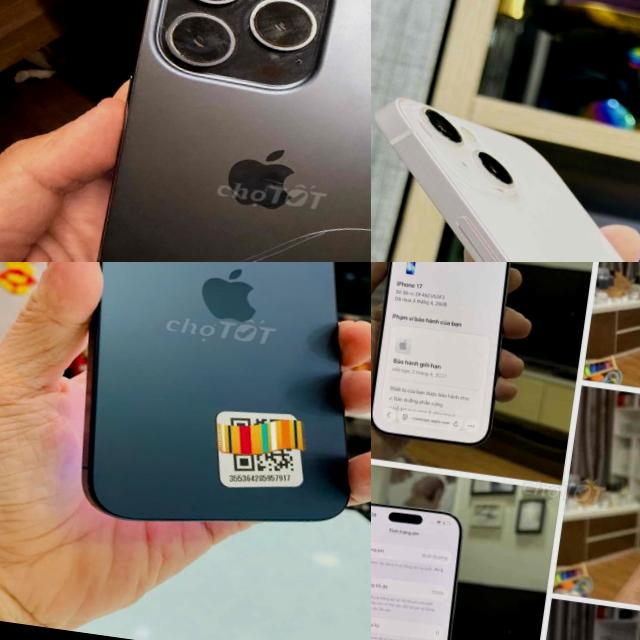physical_damage: (72, 165, 371, 262)
scratch: (123, 0, 338, 93)
